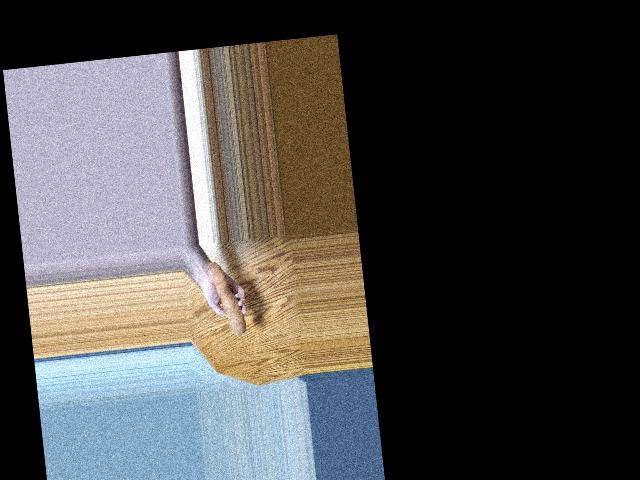sweet_potato: (212, 263, 248, 334)
